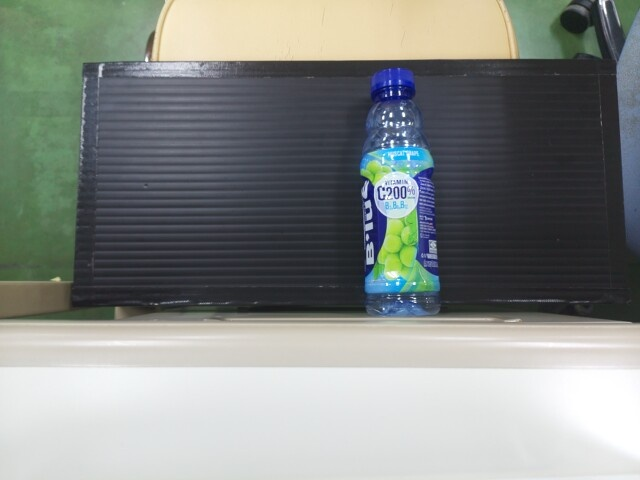plastic_bottle: (360, 59, 438, 313)
